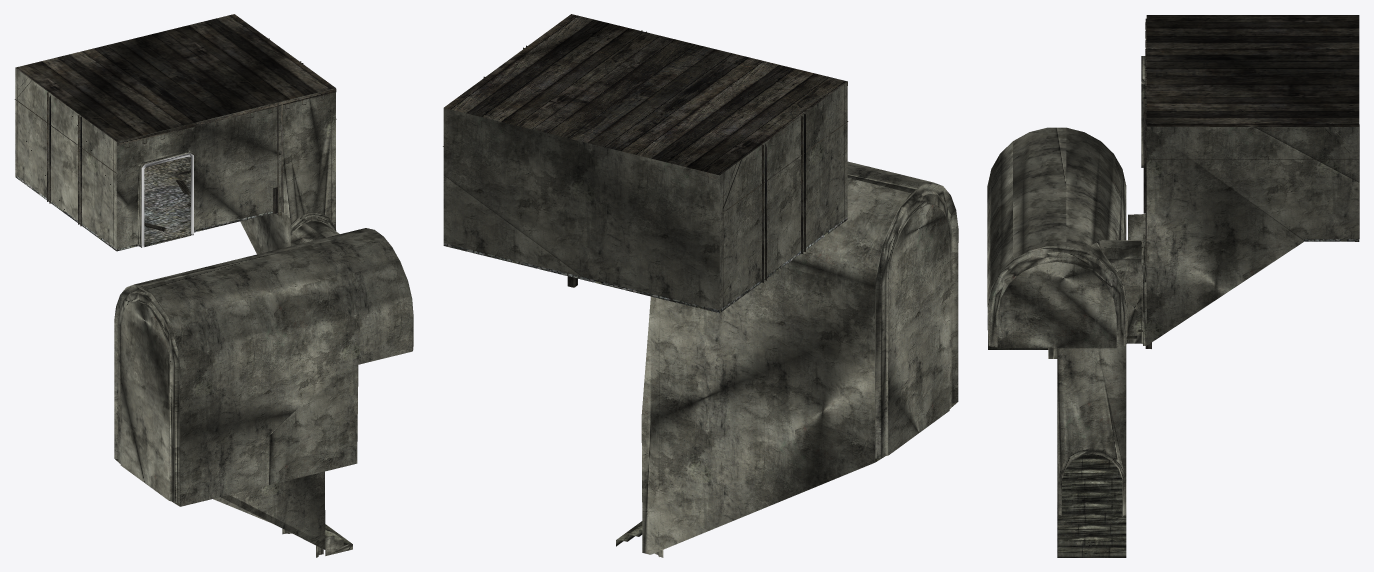
The picture shows the model from 3 angles, left to right: view 1: azimuth 30°, elevation 25°; view 2: azimuth 150°, elevation 25°; view 3: azimuth 270°, elevation 25°; orthographic projection. The views are drawn at different scales.
Parts seen in each view (by area): view 1: mesh5, mesh7, mesh6, mesh9, mesh4; view 2: mesh5, mesh7, mesh9, mesh6; view 3: mesh5, mesh7, mesh12, mesh9.
Boxes of the visible parts, box(x1,y1,x2,y2) form: mesh5: box(15, 68, 413, 556); mesh7: box(15, 14, 335, 141); mesh6: box(15, 156, 281, 251); mesh9: box(14, 38, 336, 248); mesh4: box(141, 153, 193, 247); mesh5: box(443, 82, 958, 556); mesh7: box(444, 14, 847, 175); mesh9: box(443, 30, 848, 310); mesh6: box(443, 217, 847, 313); mesh5: box(987, 56, 1359, 517); mesh7: box(1146, 15, 1359, 126); mesh12: box(988, 345, 1126, 557); mesh9: box(1143, 18, 1359, 348).
Size of the model in its own units: 8.17 by 13.77 by 10.45.
